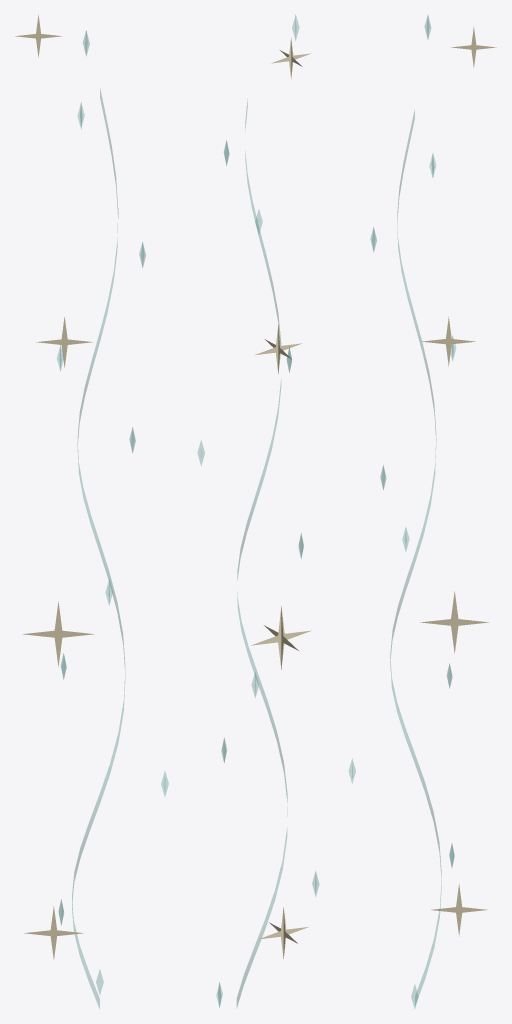
Rendered from rodfx-glass.glb.
3 views of the same model, side by side, from view 1: azimuth 90°, elevation 25°; view 2: azimuth 210°, elevation 25°; view 3: azimuth 270°, elevation 25° (orthographic). The views are drawn at different scales.
Parts seen in each view (by area): view 1: Twist, Glints, Flecks; view 2: Twist, Glints, Flecks; view 3: Twist, Glints, Flecks.
Boxes of the visible parts, left/top/right/bottom form: Twist: left=72, top=89, right=124, bottom=1008; Glints: left=15, top=14, right=94, bottom=959; Flecks: left=57, top=30, right=168, bottom=994; Twist: left=237, top=102, right=287, bottom=1006; Glints: left=251, top=37, right=311, bottom=958; Flecks: left=197, top=15, right=319, bottom=1007; Twist: left=390, top=110, right=441, bottom=1004; Glints: left=420, top=27, right=496, bottom=936; Flecks: left=349, top=15, right=455, bottom=1008.
Size of the model in its own units: 0.0728 by 0.725 by 0.101.
